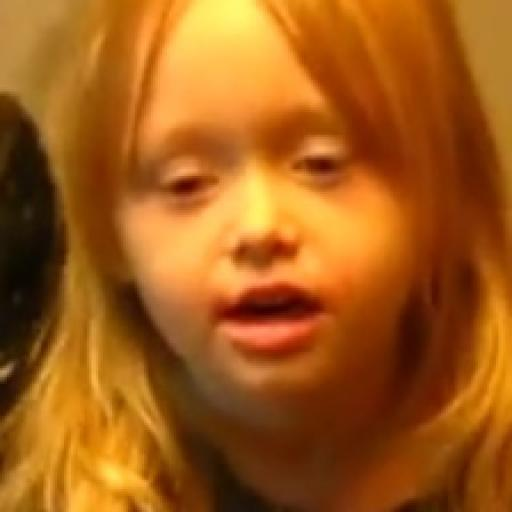Autism: (104, 6, 485, 424)
